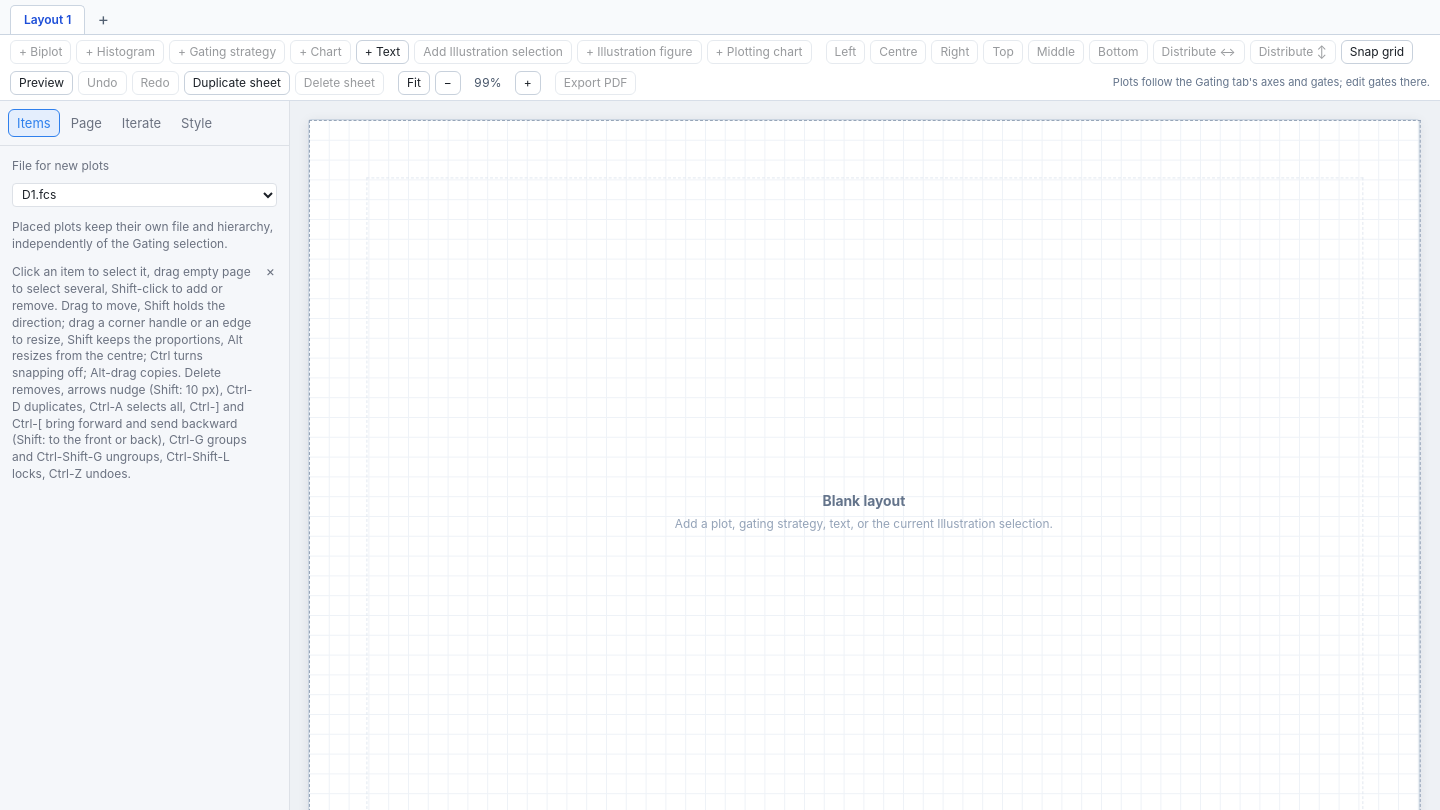
Scenario: LayoutTab moving, copying and arranging › takes Moveable's drag and resize as the item's frame, and an Option-drag as a copy
Click the button "+ Text" at [382, 52], box top-left (356, 40), bottom-right (409, 64)
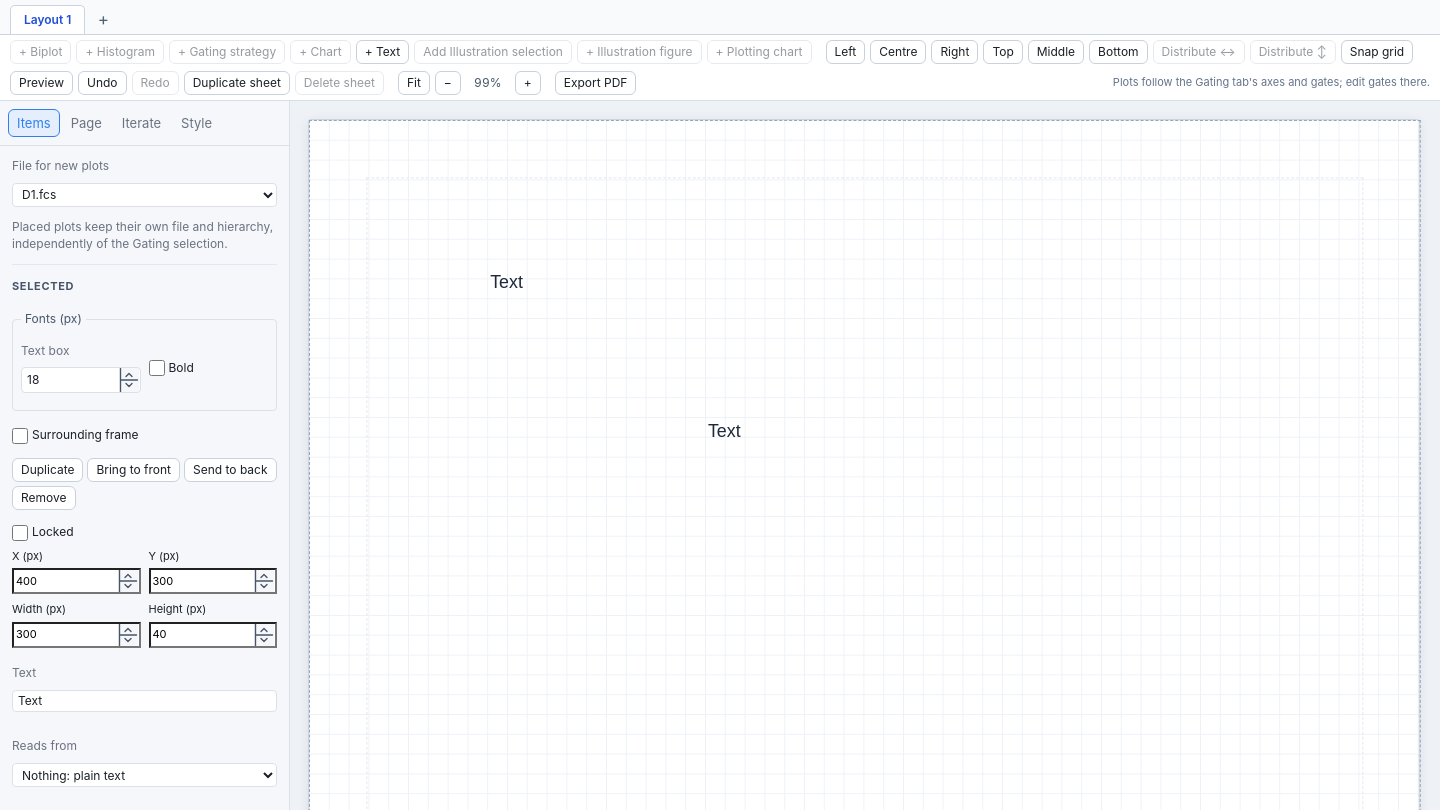
Now the number of elements with class "is-selected" is 1, box top-left (708, 421), bottom-right (741, 441)
